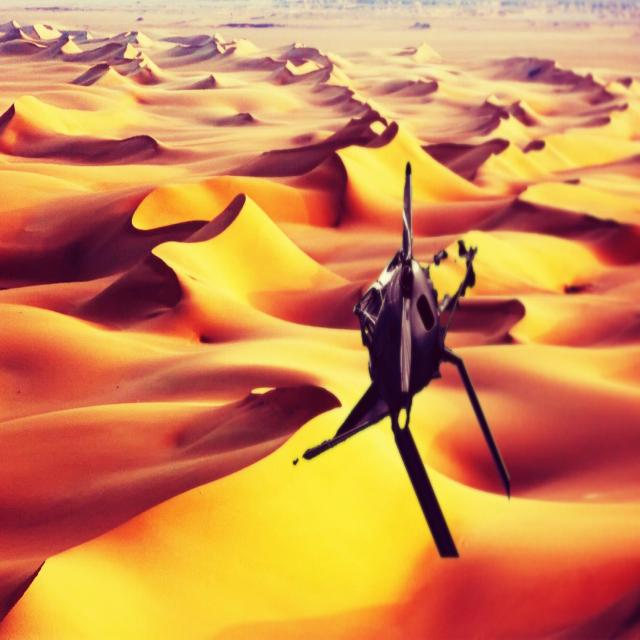airplane: (304, 160, 512, 562)
